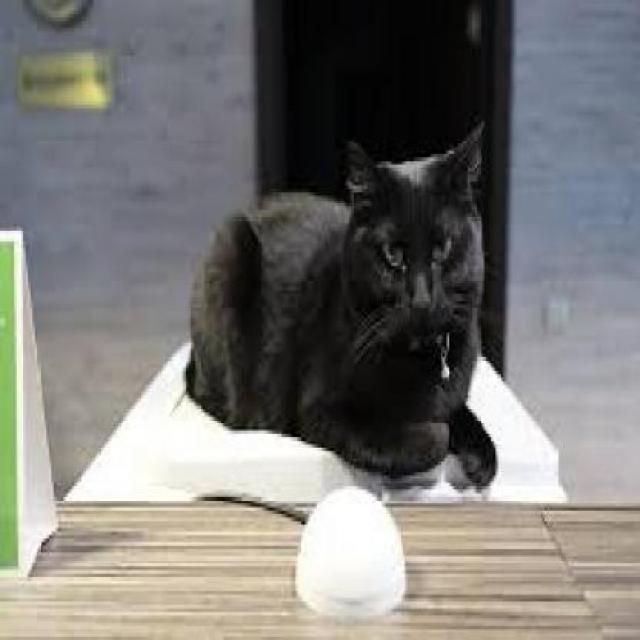animals: (174, 120, 517, 466)
